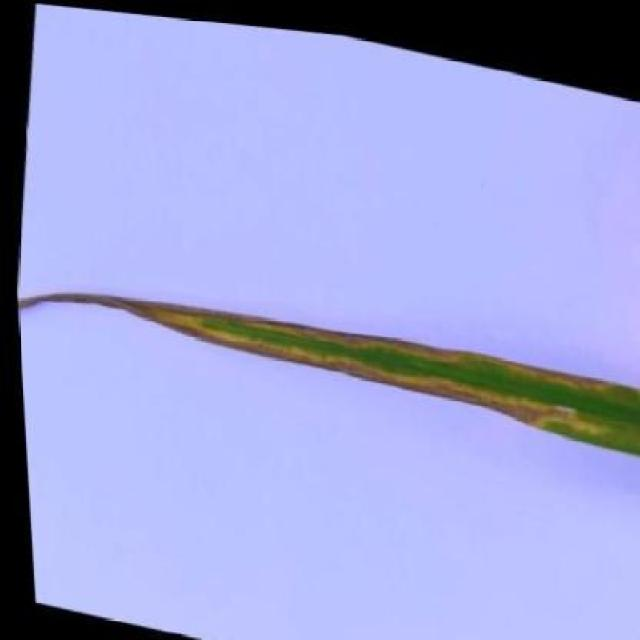Rice False Smut: (11, 246, 640, 465)
